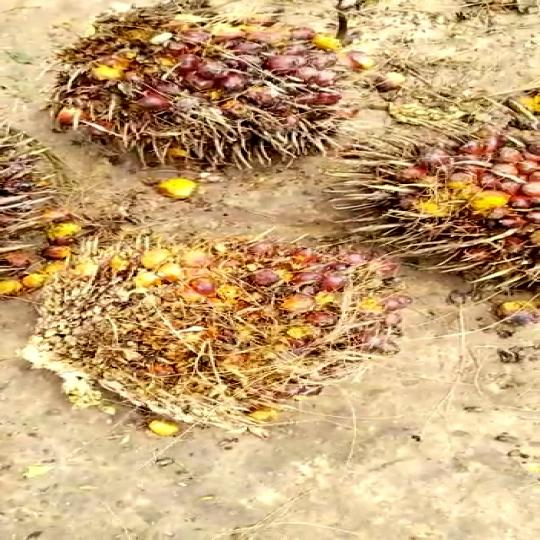masak: (24, 228, 412, 451), (47, 0, 347, 186), (340, 111, 540, 313)
